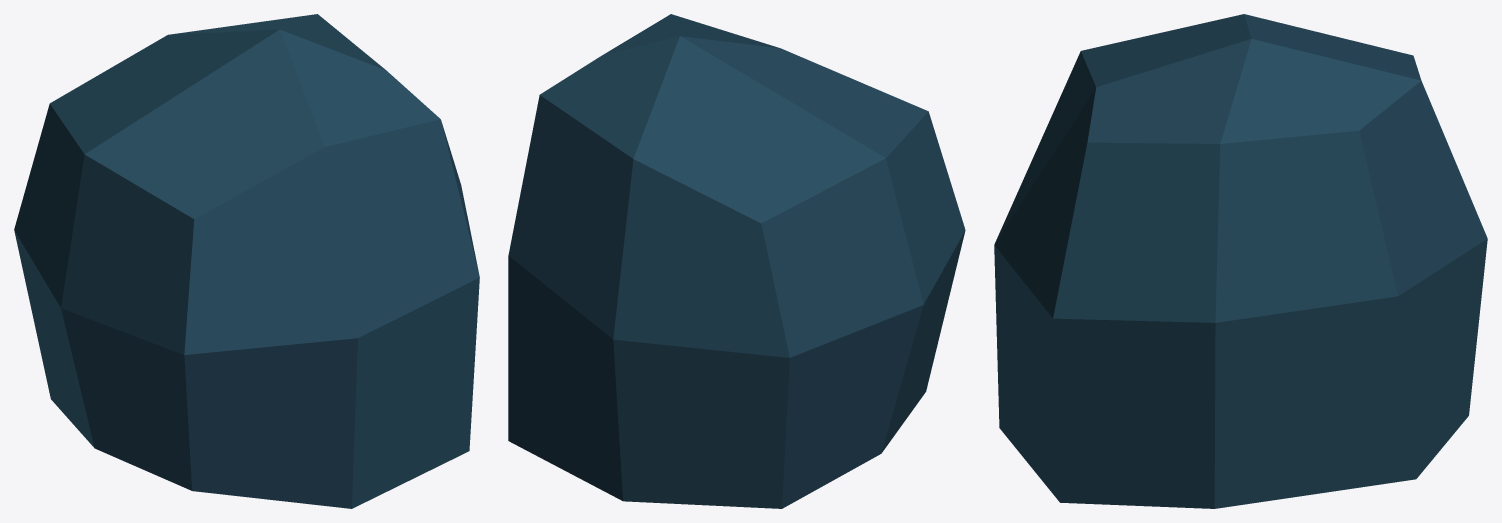
File: pedra.fbx
3 renders of one model, left to right at view 1: azimuth 30°, elevation 25°; view 2: azimuth 150°, elevation 25°; view 3: azimuth 270°, elevation 25°, orthographic. The views are drawn at different scales.
Parts seen in each view (by area): view 1: Cube; view 2: Cube; view 3: Cube.
Boxes of the visible parts, left/top/right/bottom form: Cube: left=14, top=14, right=479, bottom=508; Cube: left=508, top=14, right=965, bottom=508; Cube: left=994, top=14, right=1487, bottom=508.
Bounding box in the file's own units: 56.7 × 55.03 × 57.13.
